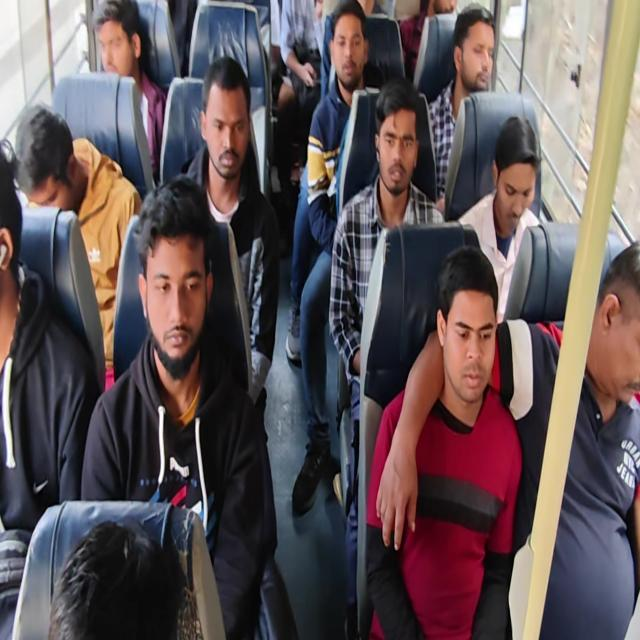person: (135, 172, 218, 372), (55, 521, 193, 640), (430, 240, 505, 414), (12, 97, 92, 220), (588, 235, 640, 398), (194, 59, 258, 179), (487, 108, 538, 230), (368, 73, 422, 188), (92, 5, 148, 94), (322, 0, 371, 84), (1, 130, 20, 312), (460, 0, 498, 90), (429, 0, 456, 17)
